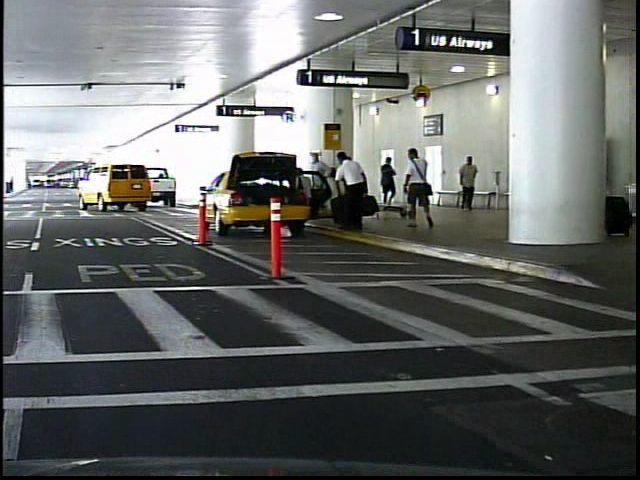person: (399, 146, 436, 231), (452, 152, 475, 214)
